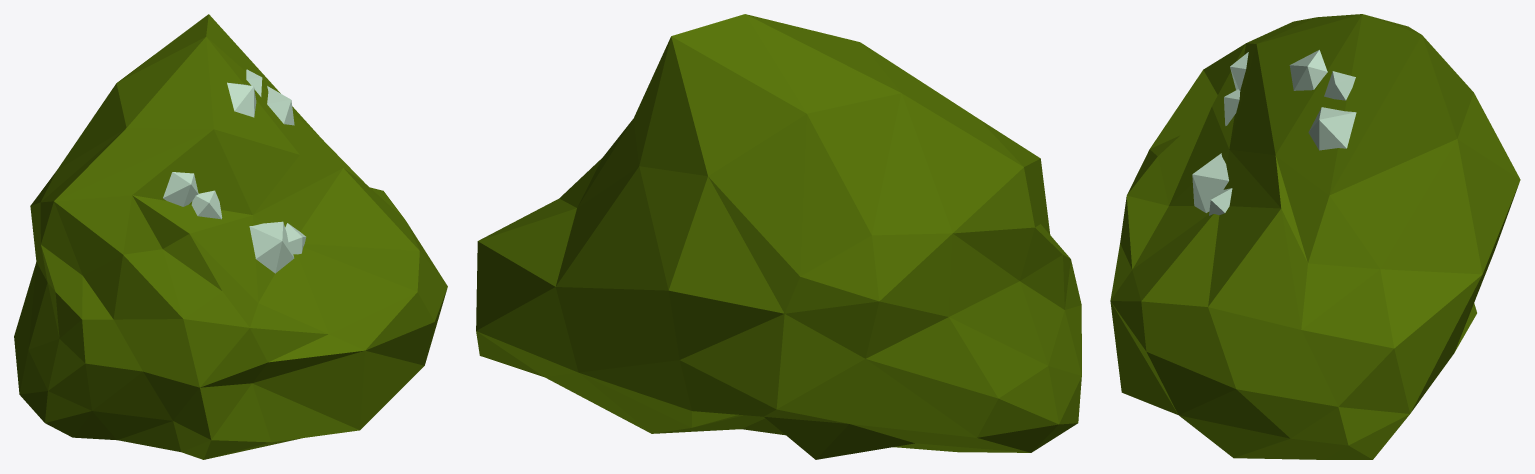
Rendered from SM_Tree_Bush_B.glb.
3 renders of one model, left to right at view 1: azimuth 30°, elevation 25°; view 2: azimuth 150°, elevation 25°; view 3: azimuth 270°, elevation 25°, orthographic. The views are drawn at different scales.
Visible parts, largest first — view 1: SM_Tree_Bush_B; view 2: SM_Tree_Bush_B; view 3: SM_Tree_Bush_B.
Boxes of the visible parts, x1=… form: SM_Tree_Bush_B: x1=14, y1=14, x2=447, y2=459; SM_Tree_Bush_B: x1=476, y1=14, x2=1081, y2=459; SM_Tree_Bush_B: x1=1110, y1=14, x2=1520, y2=459.
Size of the model in its own units: 3.07 by 2.46 by 2.34.
1 material, 1 textured.
